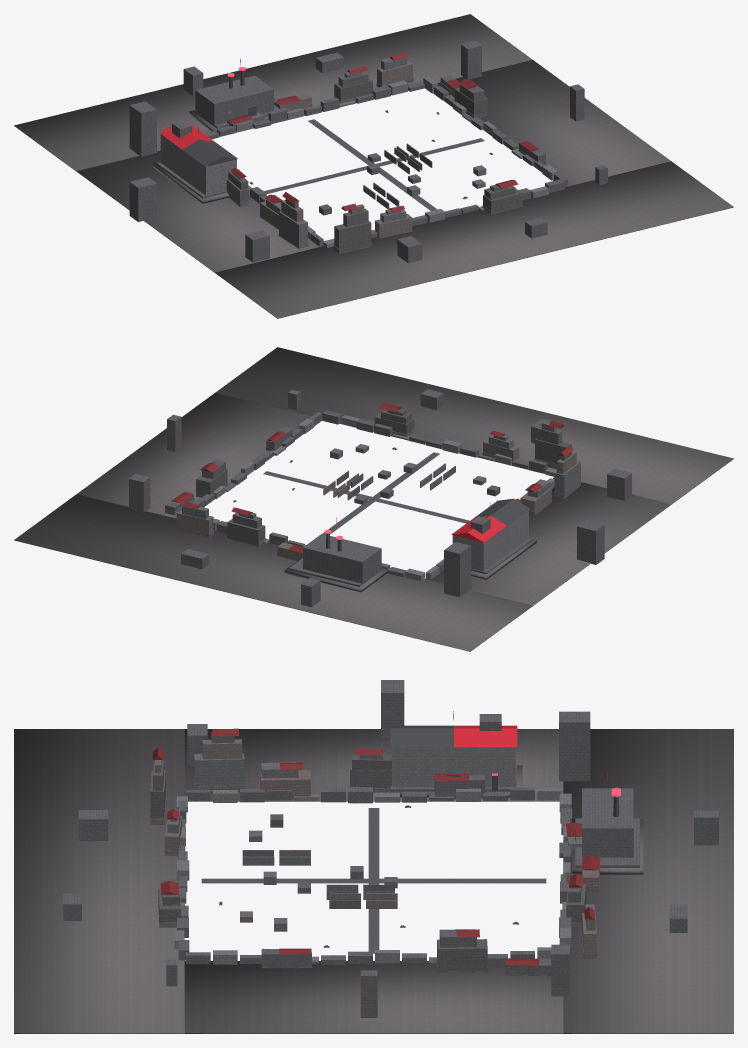
The picture shows the model from 3 angles, top to bottom: view 1: azimuth 30°, elevation 25°; view 2: azimuth 150°, elevation 25°; view 3: azimuth 270°, elevation 25°; orthographic projection. The views are drawn at different scales.
Visible parts, largest first — view 1: HB_z06_LOD2_terrain, HB_z06_LOD2_wall_alt, HB_z06_LOD2_wall_weathered, HB_z06_LOD2_wall_warm, HB_z06_LOD2_LANDMARK_0_wall_alt, HB_z06_LOD2_wall_cool, HB_z06_LOD2_LANDMARK_1_wall, HB_z06_LOD2_wall, HB_z06_LOD2_road, HB_z06_LOD2_roof, HB_z06_LOD2_LANDMARK_1_trim, HB_z06_LOD2_LANDMARK_1_wall_alt (+1 smaller); view 2: HB_z06_LOD2_terrain, HB_z06_LOD2_wall_alt, HB_z06_LOD2_LANDMARK_0_wall_alt, HB_z06_LOD2_wall_warm, HB_z06_LOD2_wall_weathered, HB_z06_LOD2_wall_cool, HB_z06_LOD2_LANDMARK_1_wall, HB_z06_LOD2_wall, HB_z06_LOD2_road, HB_z06_LOD2_roof, HB_z06_LOD2_LANDMARK_1_trim, HB_z06_LOD2_LANDMARK_1_accent (+2 smaller); view 3: HB_z06_LOD2_terrain, HB_z06_LOD2_wall_alt, HB_z06_LOD2_wall_warm, HB_z06_LOD2_wall_cool, HB_z06_LOD2_LANDMARK_0_wall_alt, HB_z06_LOD2_LANDMARK_1_wall, HB_z06_LOD2_wall_weathered, HB_z06_LOD2_wall, HB_z06_LOD2_road, HB_z06_LOD2_roof, HB_z06_LOD2_LANDMARK_1_trim, HB_z06_LOD2_LANDMARK_1_accent (+2 smaller).
Boxes of the visible parts, bbox=[...] form: HB_z06_LOD2_terrain: bbox=[14, 14, 733, 318]; HB_z06_LOD2_wall_alt: bbox=[129, 41, 607, 263]; HB_z06_LOD2_wall_weathered: bbox=[228, 78, 545, 253]; HB_z06_LOD2_wall_warm: bbox=[240, 60, 491, 253]; HB_z06_LOD2_LANDMARK_0_wall_alt: bbox=[193, 75, 287, 128]; HB_z06_LOD2_wall_cool: bbox=[227, 57, 486, 248]; HB_z06_LOD2_LANDMARK_1_wall: bbox=[160, 134, 236, 195]; HB_z06_LOD2_wall: bbox=[235, 76, 558, 247]; HB_z06_LOD2_road: bbox=[264, 119, 484, 210]; HB_z06_LOD2_roof: bbox=[228, 53, 539, 211]; HB_z06_LOD2_LANDMARK_1_trim: bbox=[182, 140, 237, 166]; HB_z06_LOD2_LANDMARK_1_wall_alt: bbox=[156, 120, 227, 198]; HB_z06_LOD2_terrain: bbox=[14, 347, 733, 651]; HB_z06_LOD2_wall_alt: bbox=[129, 389, 631, 607]; HB_z06_LOD2_LANDMARK_0_wall_alt: bbox=[289, 534, 383, 586]; HB_z06_LOD2_wall_warm: bbox=[165, 421, 576, 560]; HB_z06_LOD2_wall_weathered: bbox=[196, 409, 571, 545]; HB_z06_LOD2_wall_cool: bbox=[182, 435, 580, 519]; HB_z06_LOD2_LANDMARK_1_wall: bbox=[452, 510, 528, 571]; HB_z06_LOD2_wall: bbox=[212, 415, 556, 581]; HB_z06_LOD2_road: bbox=[263, 452, 469, 534]; HB_z06_LOD2_roof: bbox=[171, 403, 573, 553]; HB_z06_LOD2_LANDMARK_1_trim: bbox=[475, 498, 529, 525]; HB_z06_LOD2_LANDMARK_1_accent: bbox=[451, 503, 506, 542]; HB_z06_LOD2_terrain: bbox=[14, 729, 733, 1033]; HB_z06_LOD2_wall_alt: bbox=[63, 680, 718, 1017]; HB_z06_LOD2_wall_warm: bbox=[150, 739, 599, 974]; HB_z06_LOD2_wall_cool: bbox=[167, 752, 595, 931]; HB_z06_LOD2_LANDMARK_0_wall_alt: bbox=[575, 788, 639, 867]; HB_z06_LOD2_LANDMARK_1_wall: bbox=[392, 747, 515, 786]; HB_z06_LOD2_wall_weathered: bbox=[150, 755, 586, 971]; HB_z06_LOD2_wall: bbox=[174, 788, 571, 964]; HB_z06_LOD2_road: bbox=[201, 808, 546, 953]; HB_z06_LOD2_roof: bbox=[152, 728, 600, 965]; HB_z06_LOD2_LANDMARK_1_trim: bbox=[390, 725, 497, 791]; HB_z06_LOD2_LANDMARK_1_accent: bbox=[453, 711, 517, 747].
Size of the model in its own units: 554 by 65.34 by 548.
13 materials, 11 textured.
